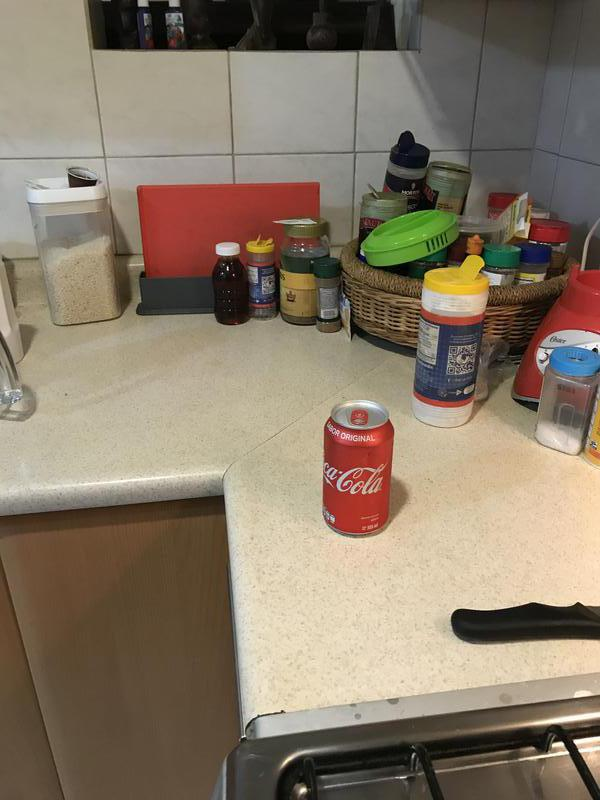coca_cola: (324, 402, 391, 537)
